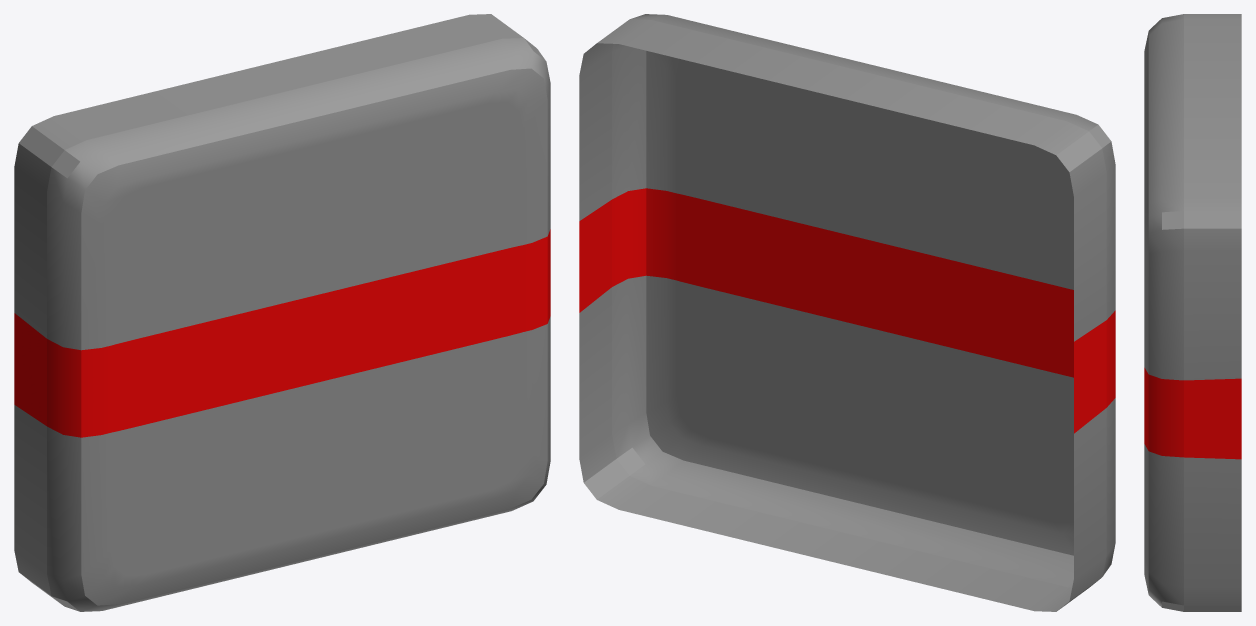
The model's file is HallWay_End_001.FBX.
The picture shows the model from 3 angles, left to right: view 1: azimuth 30°, elevation 25°; view 2: azimuth 150°, elevation 25°; view 3: azimuth 270°, elevation 25°; orthographic projection. The views are drawn at different scales.
Visible parts, largest first — view 1: HallWay_End_001; view 2: HallWay_End_001; view 3: HallWay_End_001.
Part boxes in pixels (x1,y1,x2,y2): HallWay_End_001: (14, 14, 550, 611); HallWay_End_001: (579, 14, 1115, 611); HallWay_End_001: (1144, 14, 1241, 611).
Size of the model in its own units: 2.5 by 2.25 by 0.4852.
